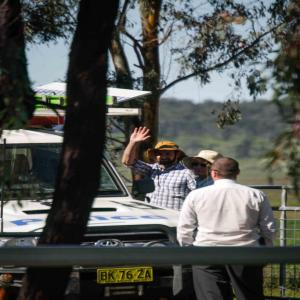Vehicle-registration-plate: (93, 272, 145, 292)
